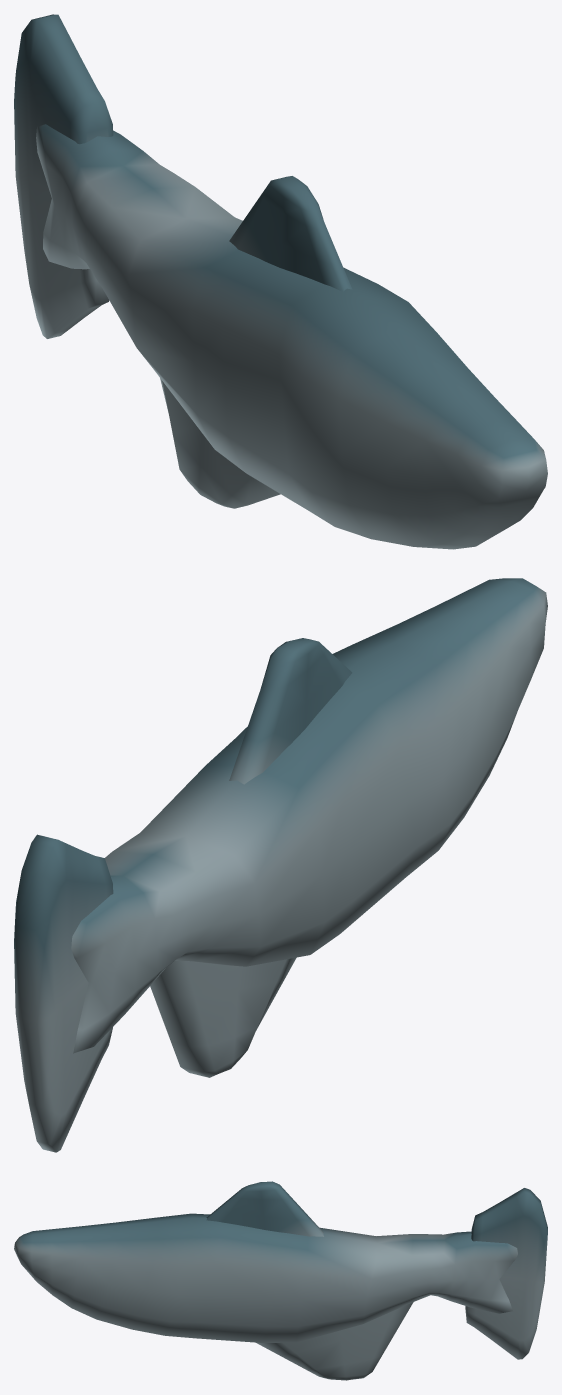
The model's file is silver-school.glb.
3 views of the same model, one above another, from view 1: azimuth 30°, elevation 25°; view 2: azimuth 150°, elevation 25°; view 3: azimuth 270°, elevation 25° (orthographic). The views are drawn at different scales.
Visible parts, largest first — view 1: silver-school; view 2: silver-school; view 3: silver-school.
Part boxes in pixels (left/top/right/bottom): silver-school: left=14, top=14, right=547, bottom=549; silver-school: left=14, top=578, right=547, bottom=1152; silver-school: left=14, top=1181, right=547, bottom=1380.
Size of the model in its own units: 0.051 by 0.1288 by 0.32.
